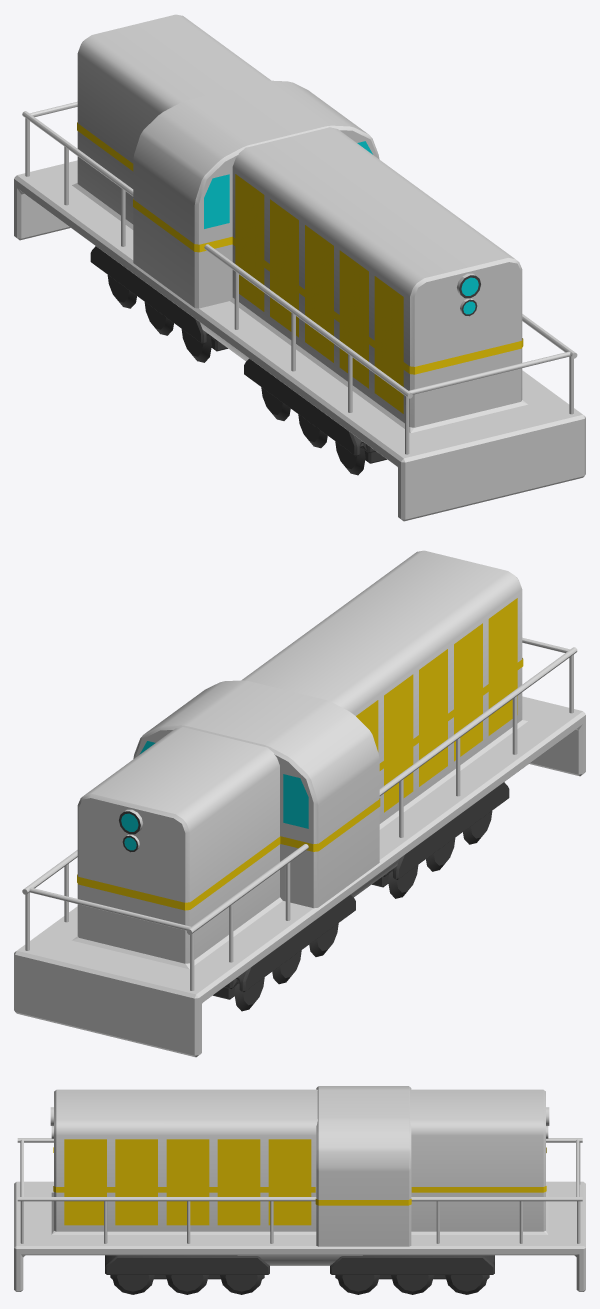
Rendered from Train1.gltf.
3 renders of one model, top to bottom at view 1: azimuth 30°, elevation 25°; view 2: azimuth 150°, elevation 25°; view 3: azimuth 270°, elevation 25°, orthographic. The views are drawn at different scales.
Visible parts, largest first — view 1: Train 1, External Plates, Wheels.002, Plane, Windows.001; view 2: Train 1, External Plates, Wheels.002, Plane, Windows.001; view 3: Train 1, External Plates, Wheels.002, Plane.
Boxes of the visible parts, box(x1,y1,x2,y2) form: Train 1: box(14, 14, 585, 521); External Plates: box(235, 174, 403, 413); Wheels.002: box(90, 246, 386, 475); Plane: box(77, 122, 523, 374); Windows.001: box(204, 141, 372, 228); Train 1: box(14, 550, 585, 1057); External Plates: box(356, 598, 517, 812); Wheels.002: box(213, 782, 509, 1011); Plane: box(77, 658, 523, 910); Windows.001: box(139, 741, 308, 828); Train 1: box(14, 1086, 585, 1291); External Plates: box(64, 1139, 311, 1225); Wheels.002: box(105, 1255, 494, 1294); Plane: box(53, 1147, 546, 1205).
Bounding box in the file's own units: 3.31 × 3.92 × 12.06.
